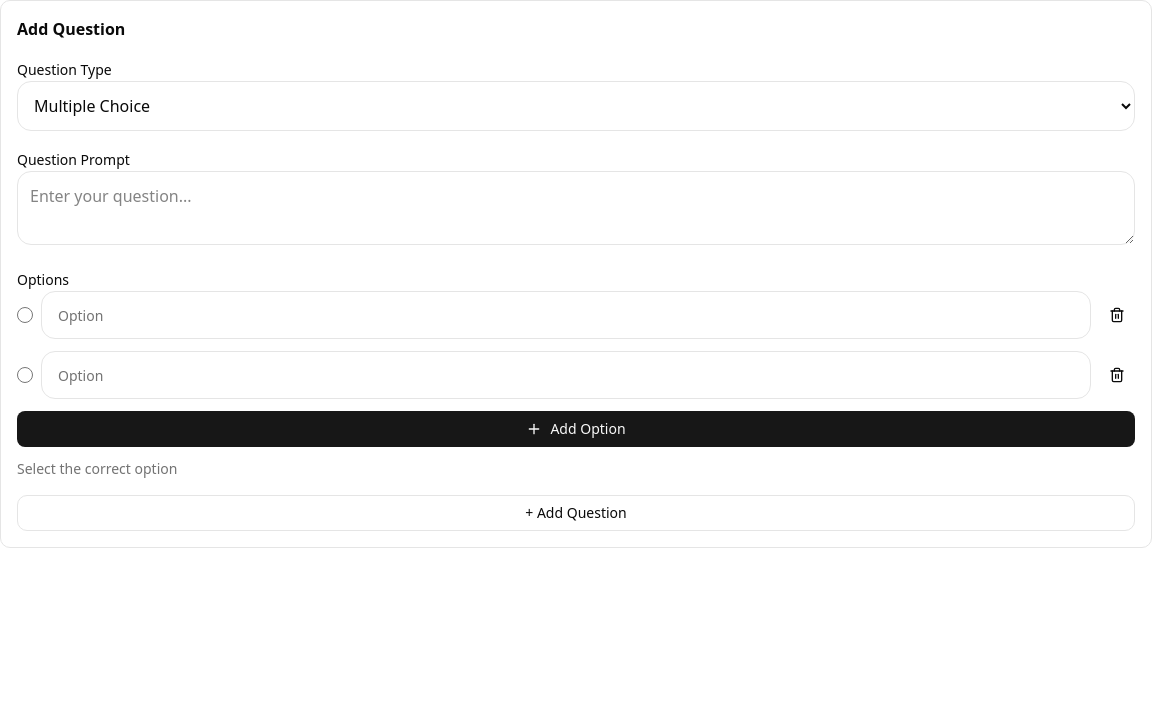
Test: QuestionForm › switches to short answer mode
Select "Short Answer" in the dropdown at point(576, 106), box [17,81,1135,131]
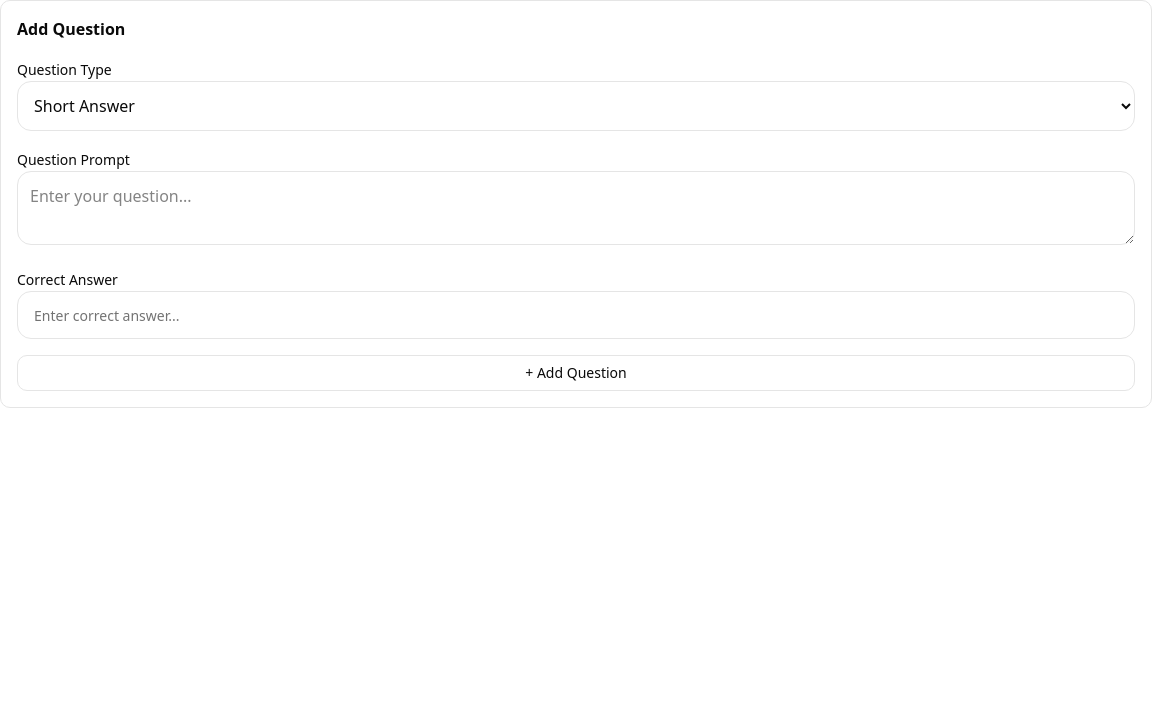
Result: the text "Correct Answer" is shown at [17,270,118,289]
Result: the field with placeholder "Enter correct answer..." is shown at [17,291,1135,339]
